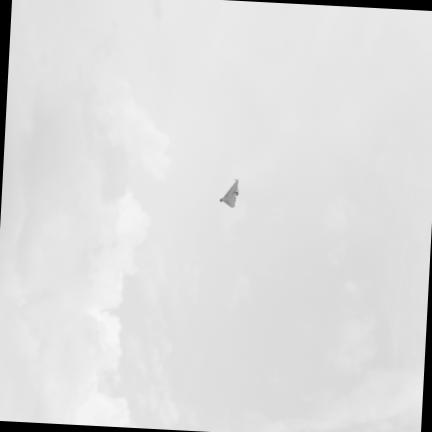Shahed: (219, 180, 237, 207)
